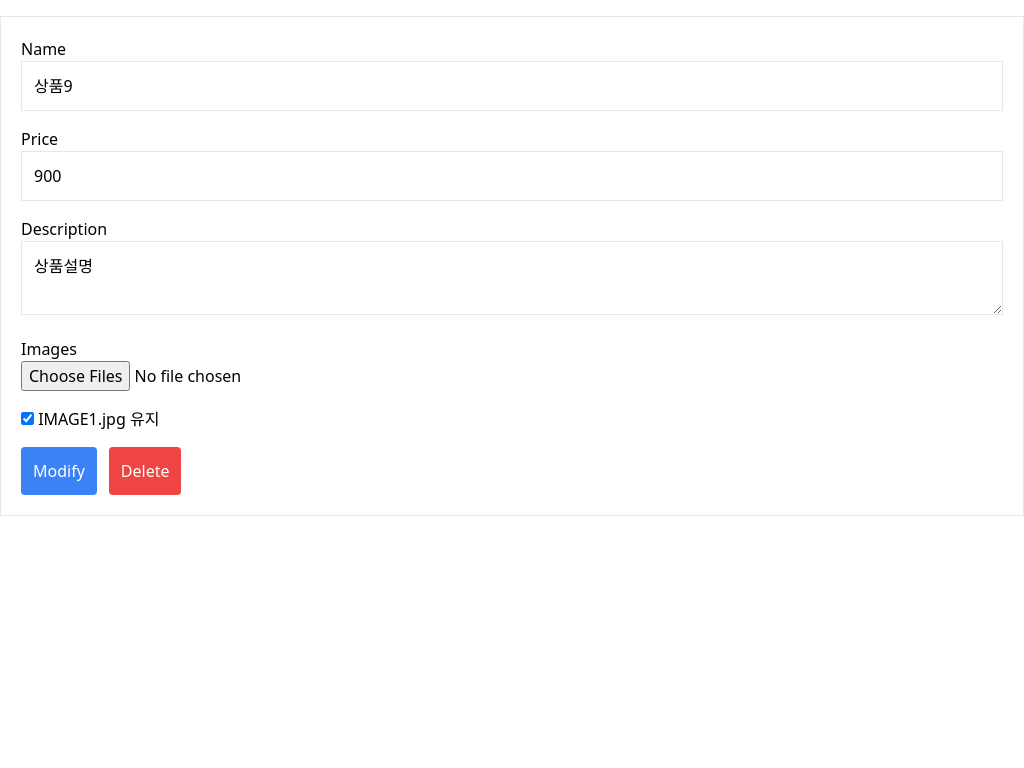
Test: 삭제 확인 뒤 Delete Mutation을 실행하고 성공 결과를 보여준다
The image size is (1024, 768).
Click the button "Delete": [145, 471] box left=109, top=447, right=182, bottom=495
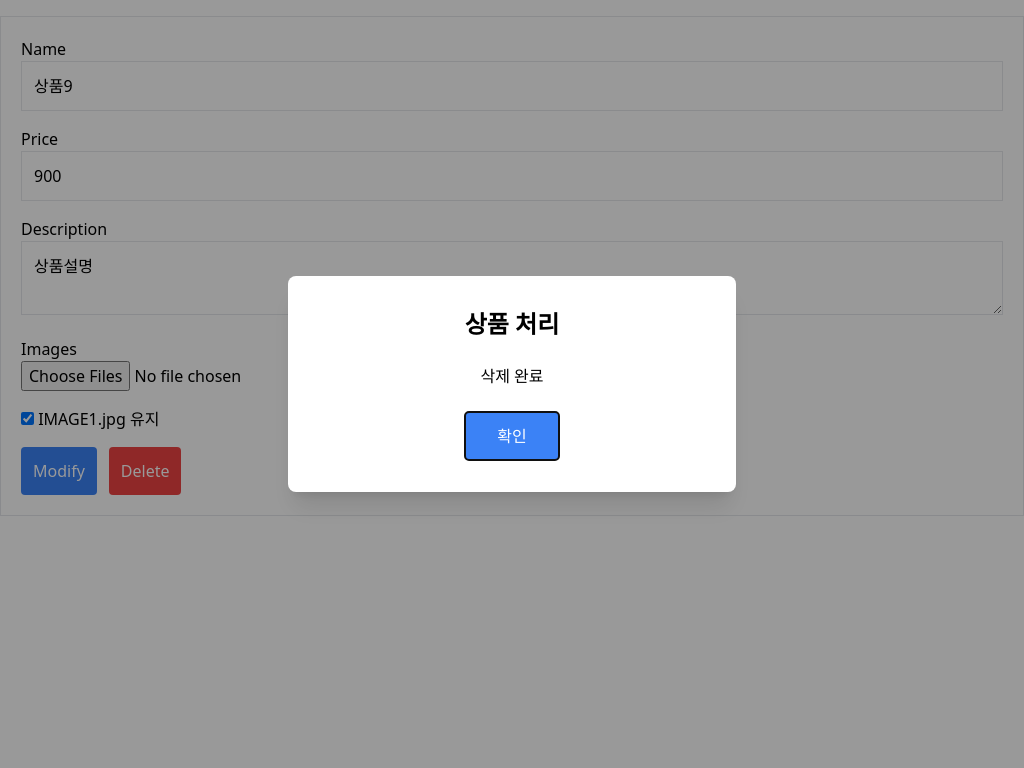
Result: the text "삭제 완료" is shown at left=480, top=365, right=544, bottom=387
